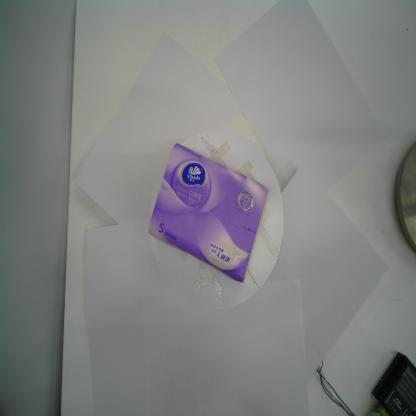Tissue: (146, 139, 272, 285)
